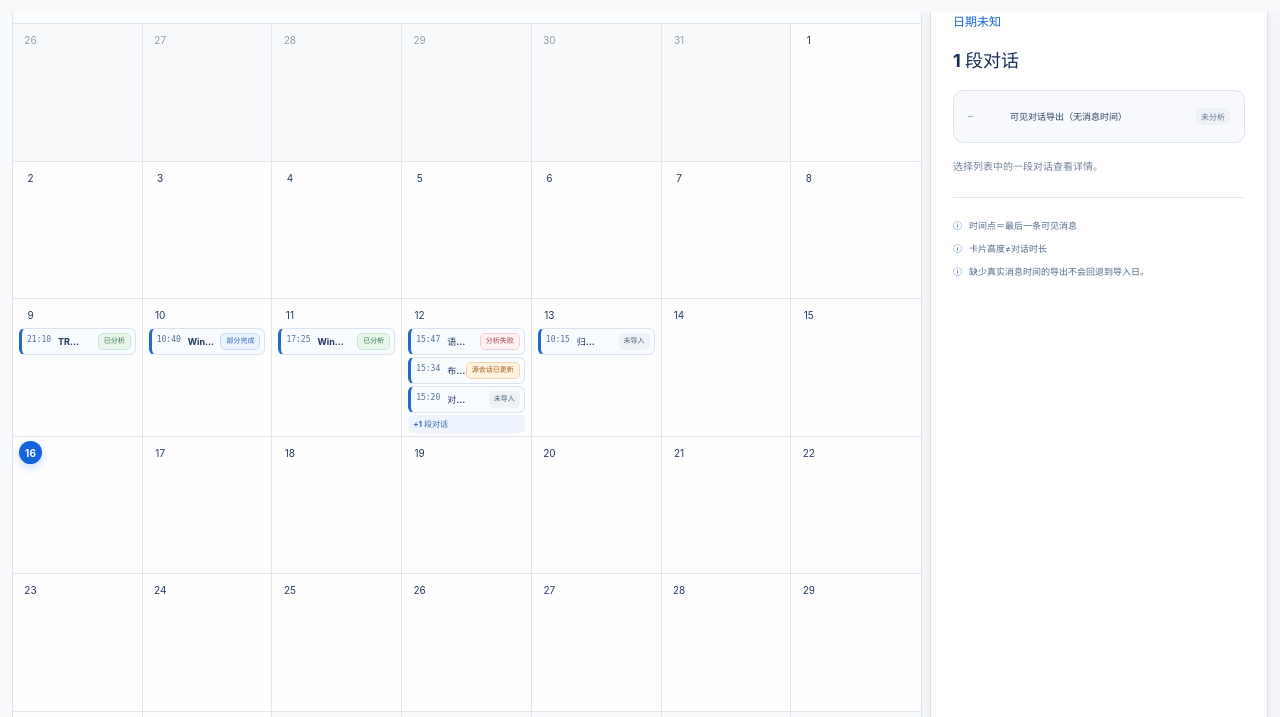
Test: calendar presentation › keeps undated exports outside date cells
(page scrolled)
Expected: the text "日期未知" is shown, [953,14,1001,29]
Expected: the text "可见对话导出（无消息时间）" is shown, [1010,111,1127,122]
Click the button "— 可见对话导出（无消息时间） 未分析" at (1099, 117), box [961,98,1237,135]
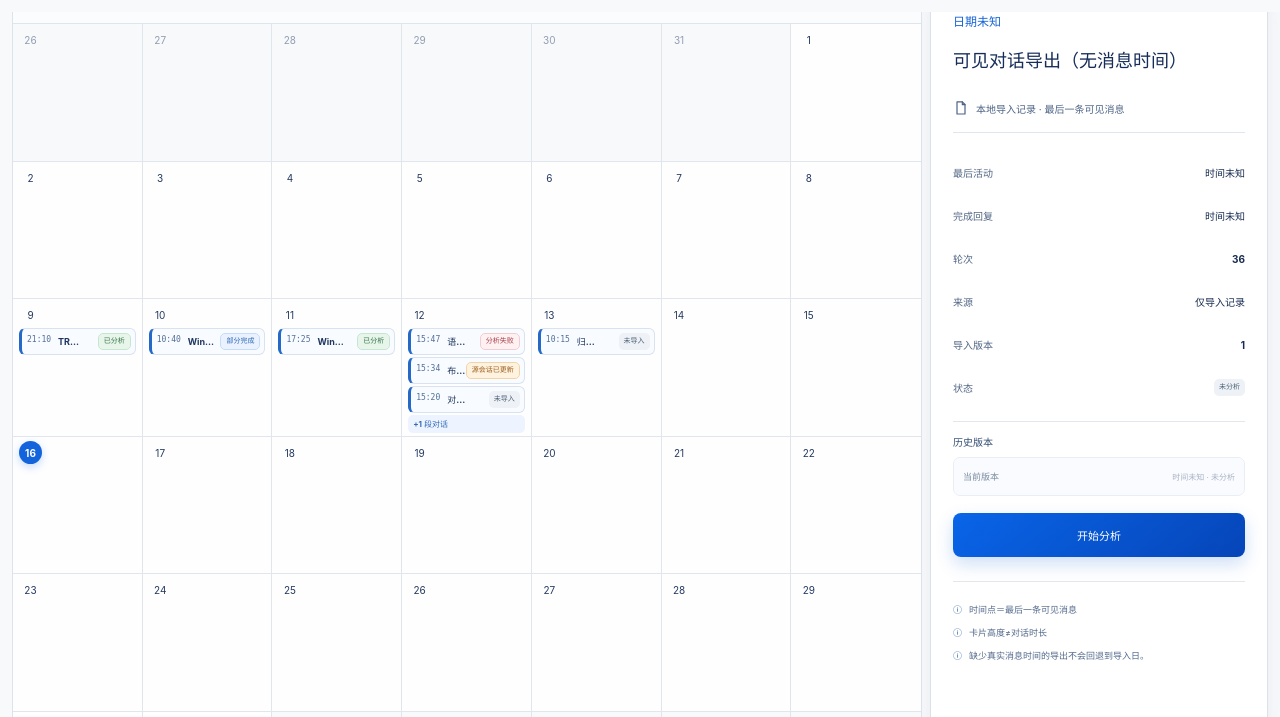
Expected: the text "缺少真实消息时间的导出不会回退到导入日。" is shown, [969,650,1149,661]
Now the text "本地导入记录 · 最后一条可见消息" is shown, box [953,90,1245,133]
